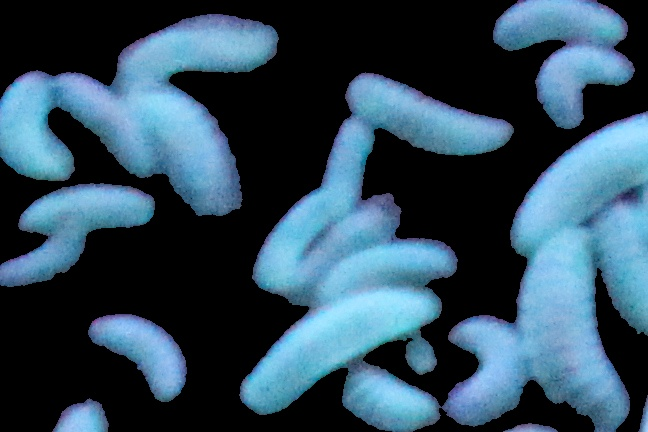larvae: (243, 289, 436, 417), (525, 230, 631, 431), (511, 125, 646, 249), (345, 78, 511, 151), (105, 16, 280, 84), (299, 238, 468, 301), (156, 83, 237, 208), (81, 307, 185, 404), (60, 70, 154, 170), (443, 316, 524, 425), (252, 194, 343, 285), (334, 358, 445, 432), (530, 50, 636, 126), (1, 74, 74, 184), (594, 201, 648, 339), (487, 1, 629, 49), (17, 184, 158, 232), (308, 196, 397, 255), (1, 231, 85, 287), (320, 118, 369, 203)
